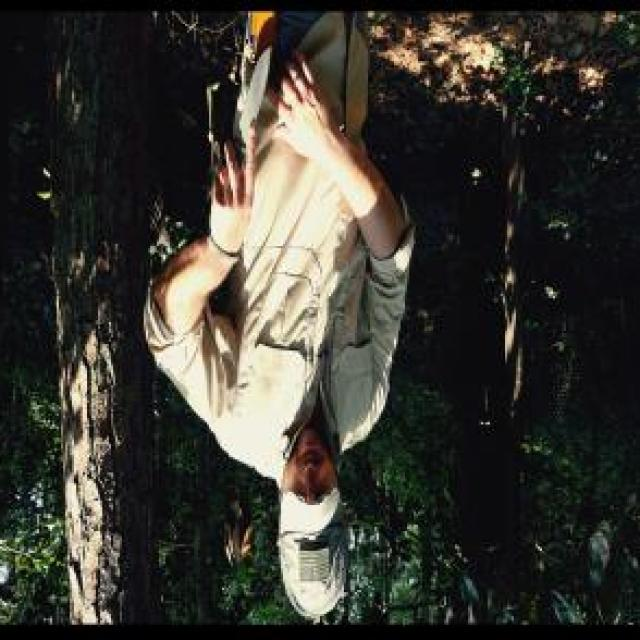knife: (220, 43, 274, 198)
